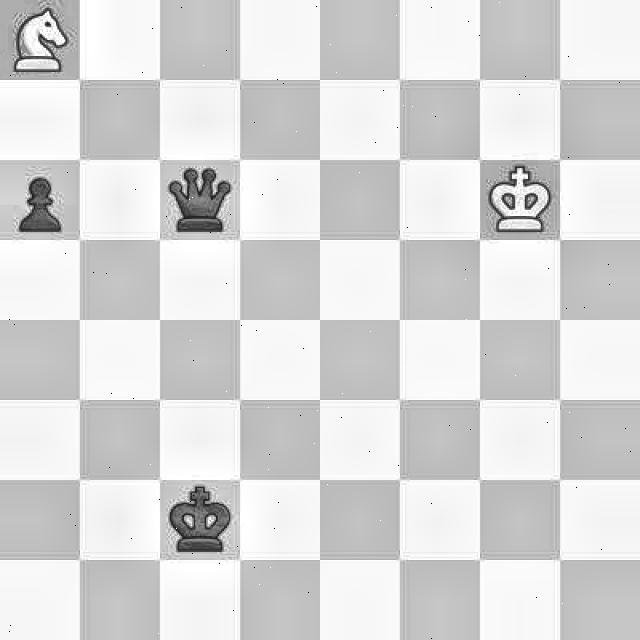black king: (164, 478, 244, 558)
black pawn: (0, 161, 71, 240)
black queen: (164, 162, 242, 236)
white king: (485, 160, 560, 238)
whiteknight: (4, 3, 72, 77)
